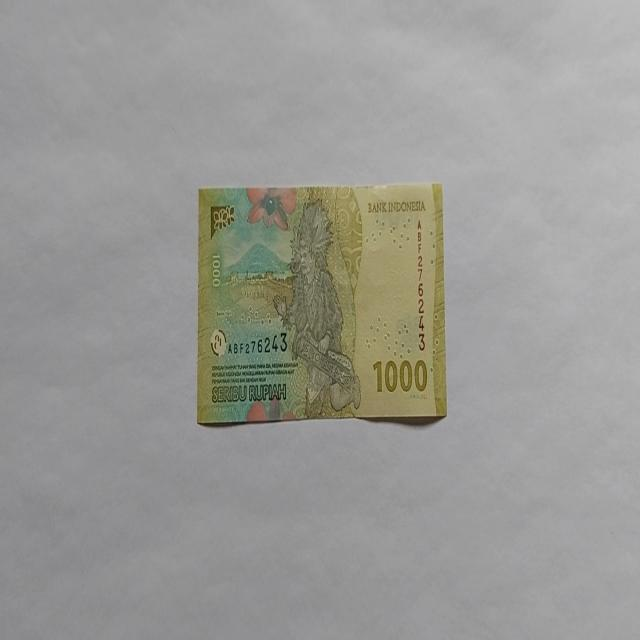seribu rupiah kertas: (196, 181, 447, 427)
